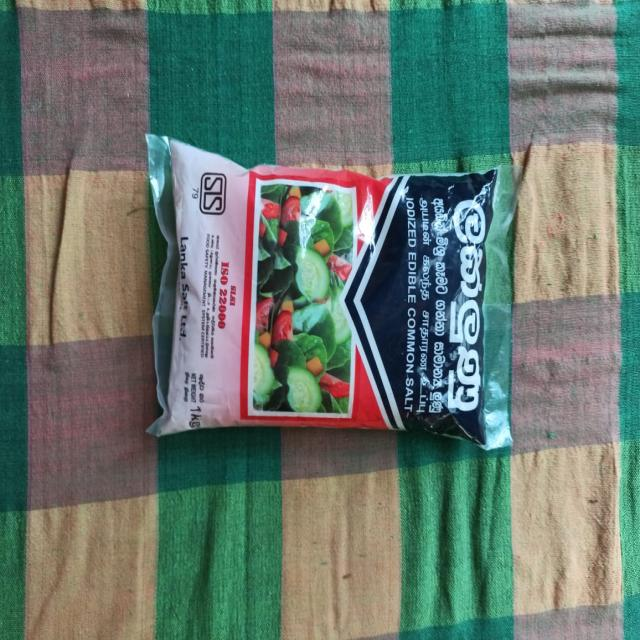Lak Lunu: (120, 122, 547, 512)
